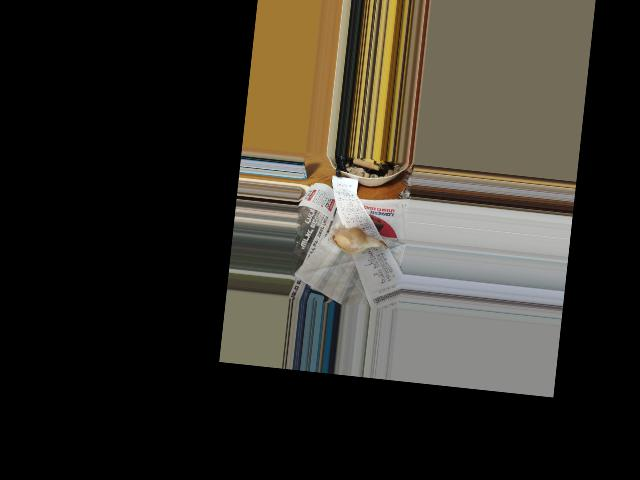onion: (331, 226, 372, 256)
